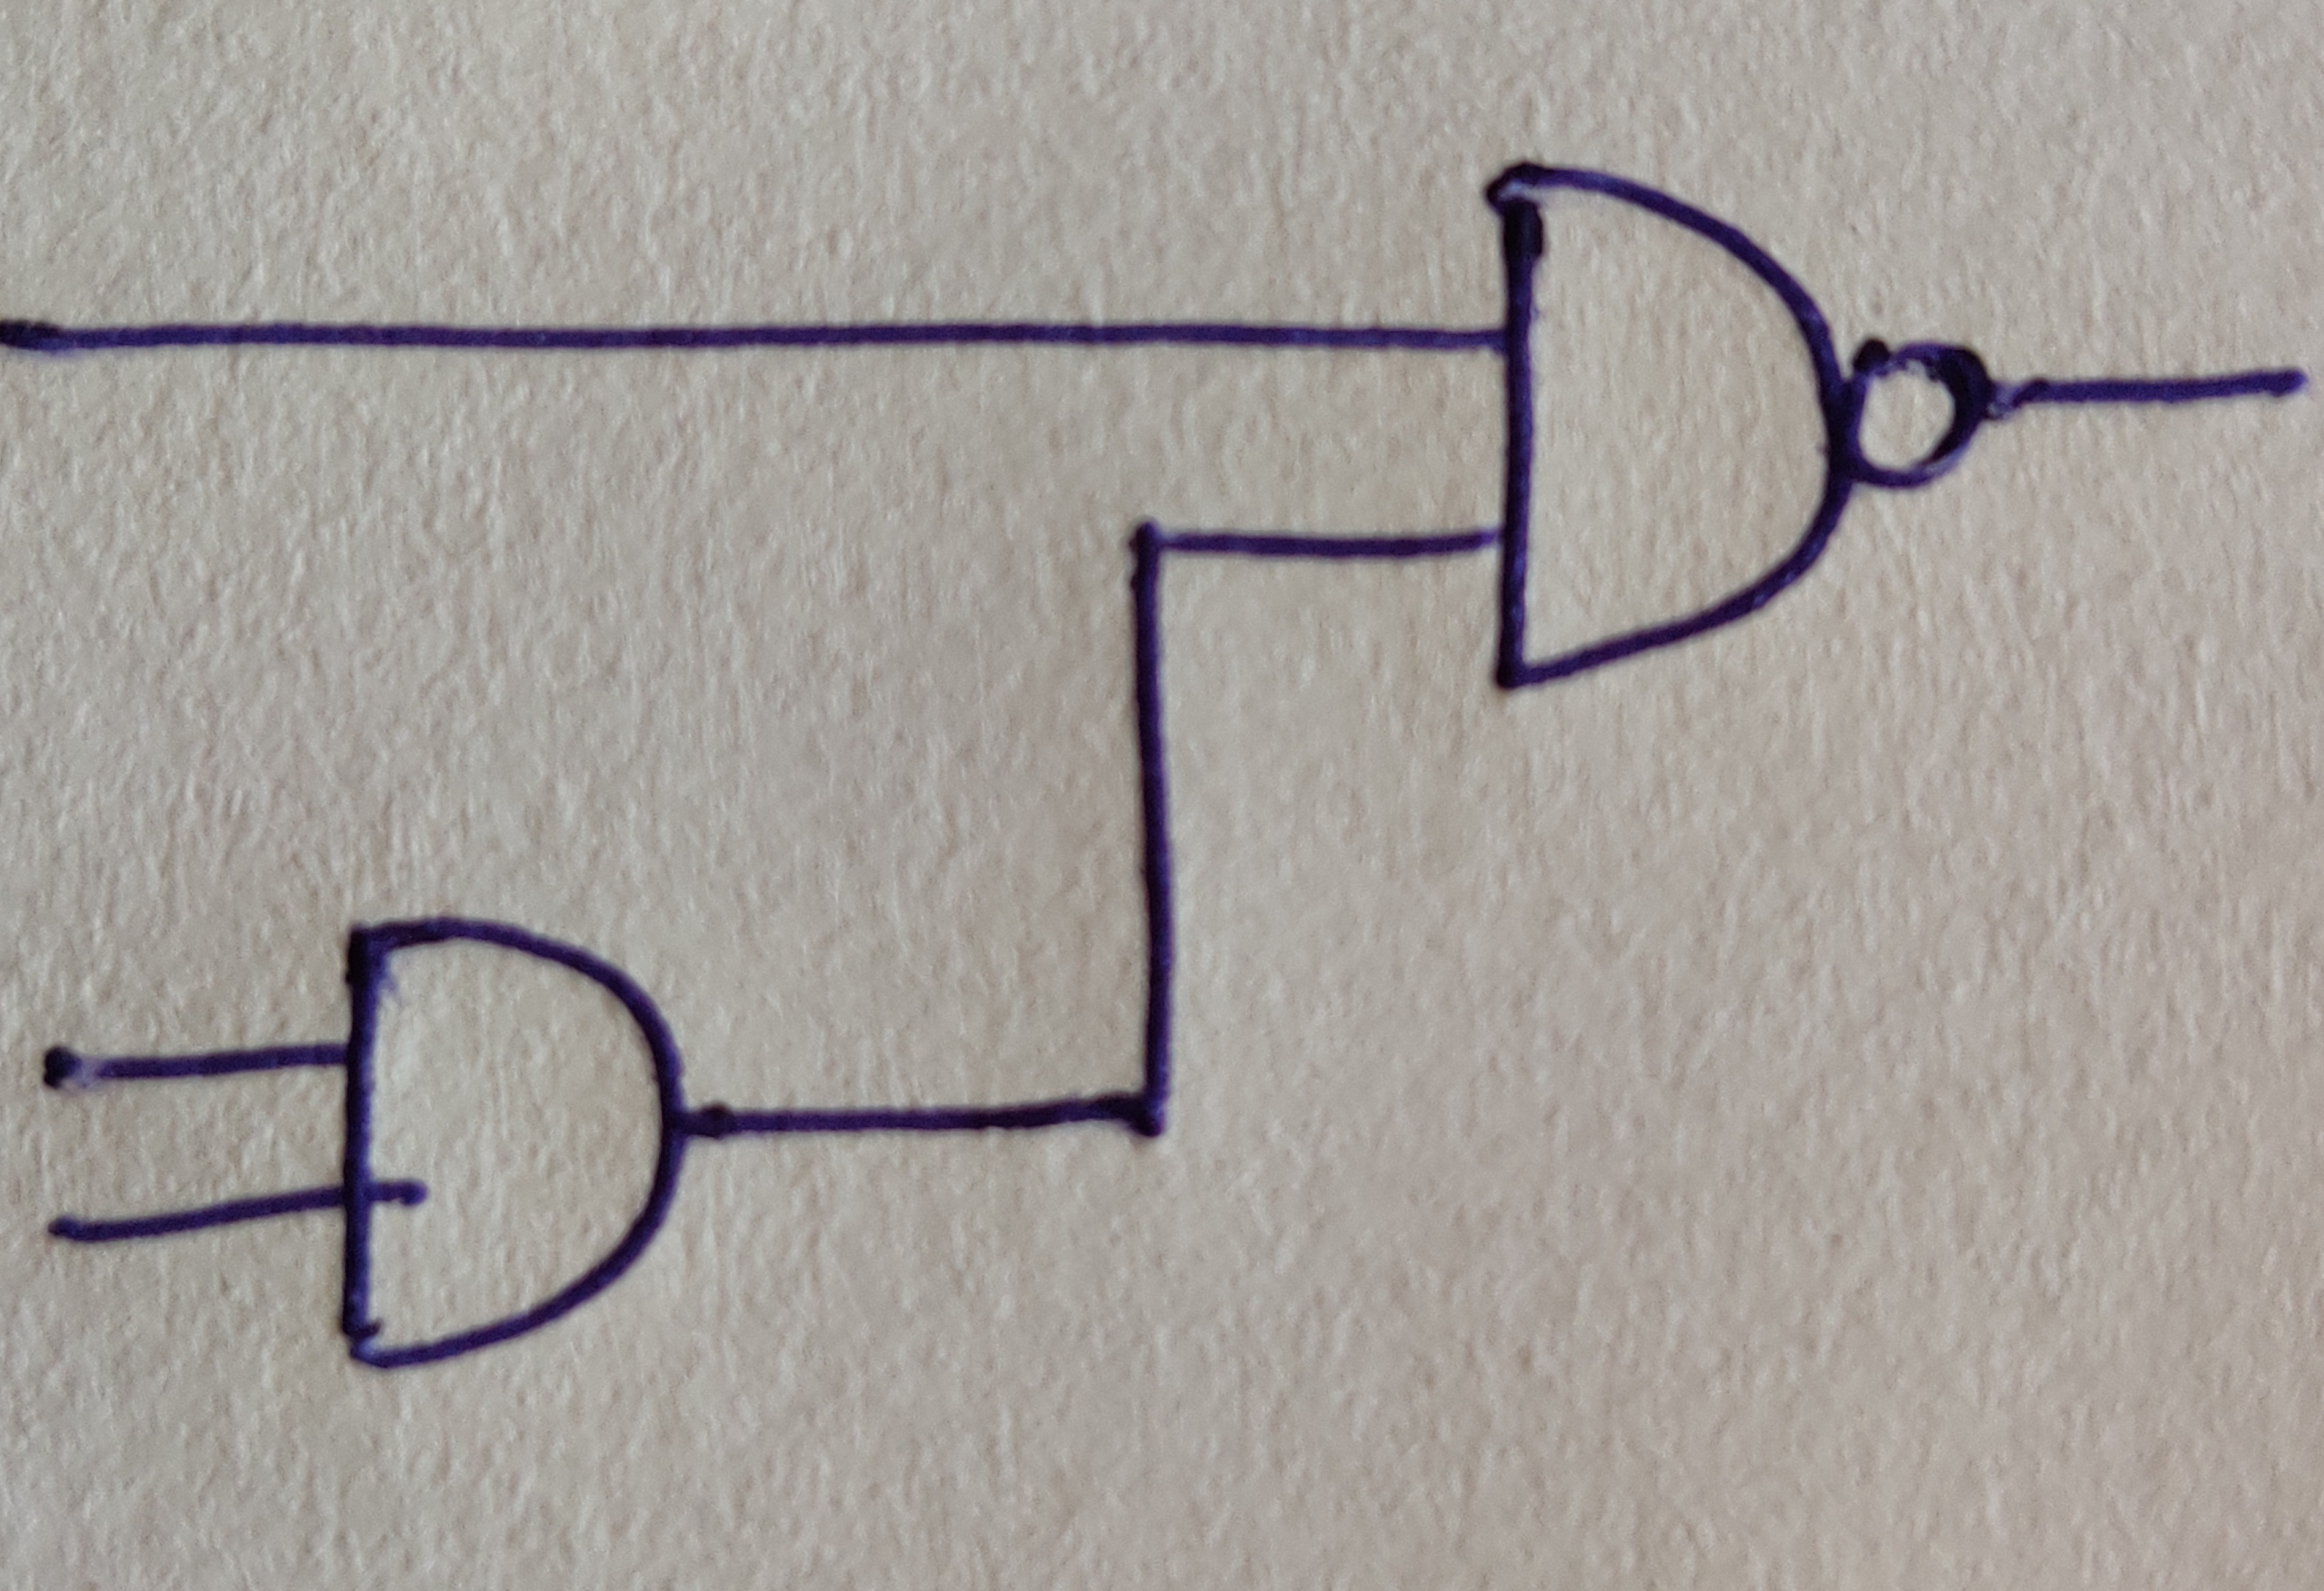and: (1485, 162, 1852, 692), (341, 916, 689, 1365)
not: (1845, 336, 1992, 489)
